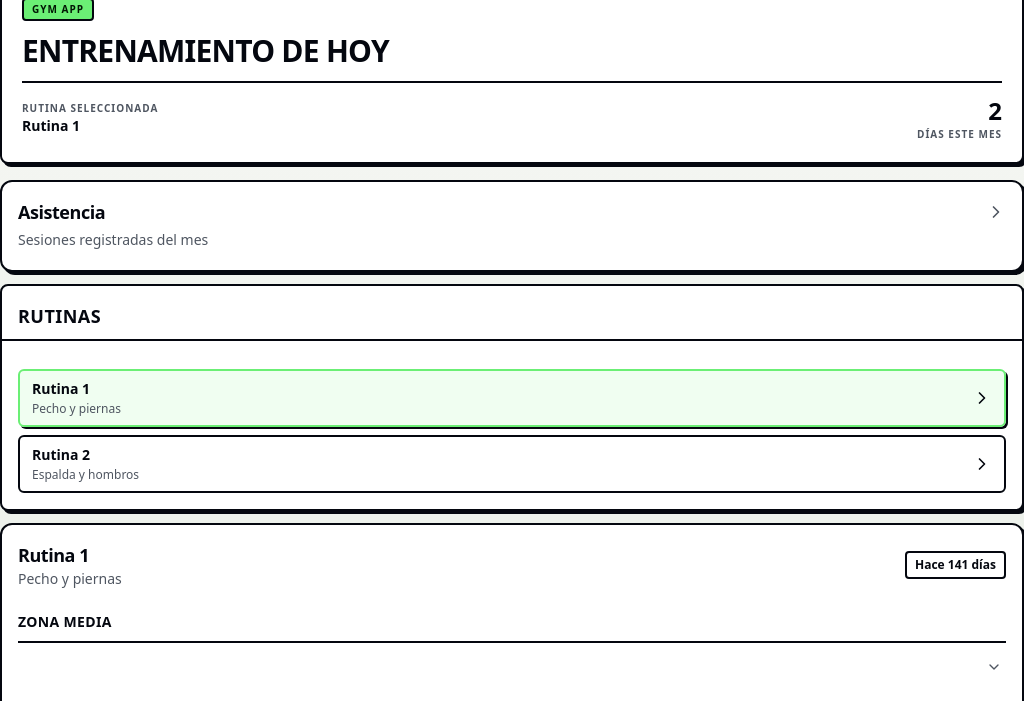
Test case: WorkoutApp › applies stopwatch time to seconds-based exercises
Click the button named "zona media": click(994, 667) [18,651,1006,683]
(page scrolled)
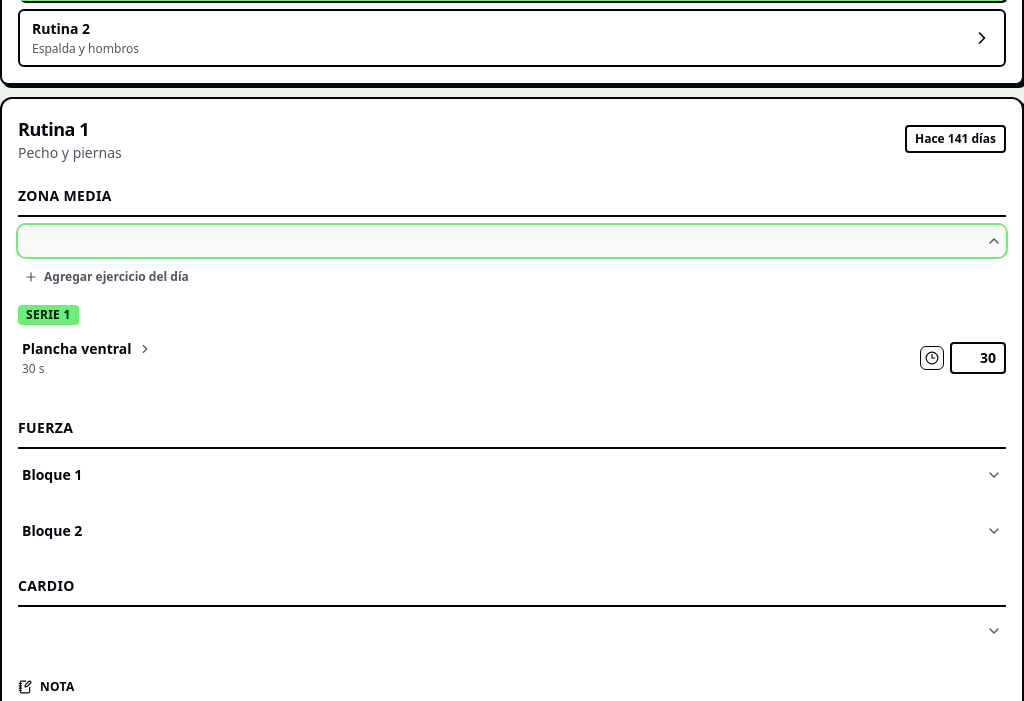
Click the button named "Usar cronómetro en Plancha ventral serie 1": click(932, 358) [920,346,944,370]
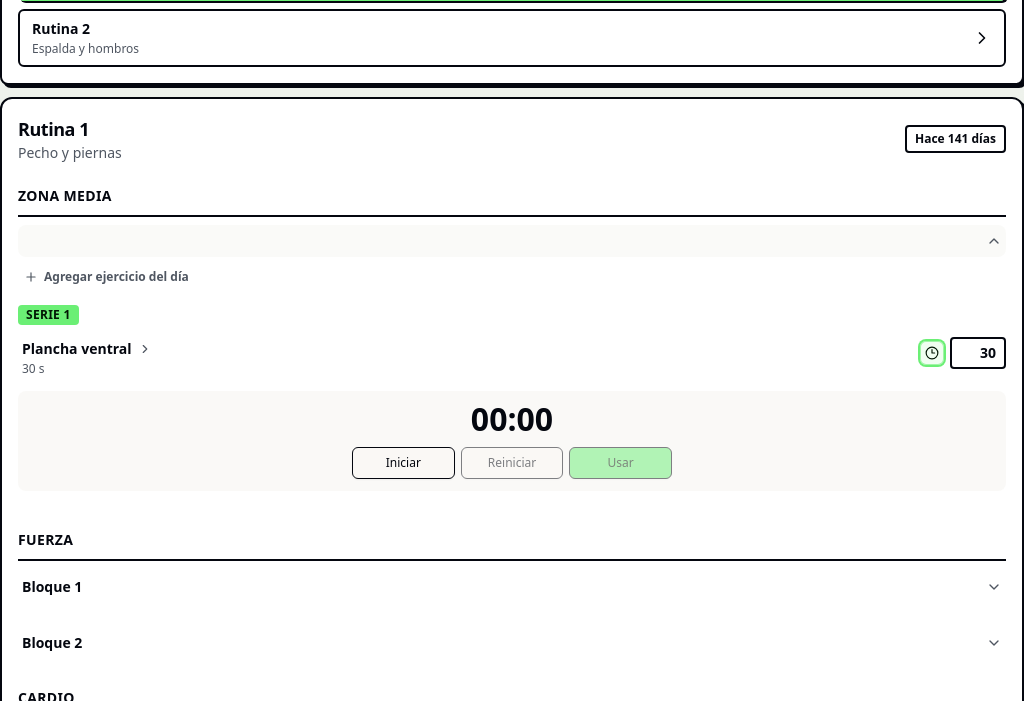
Click the button "Iniciar": click(403, 463) [352,447,455,479]
Wait 37000 ms
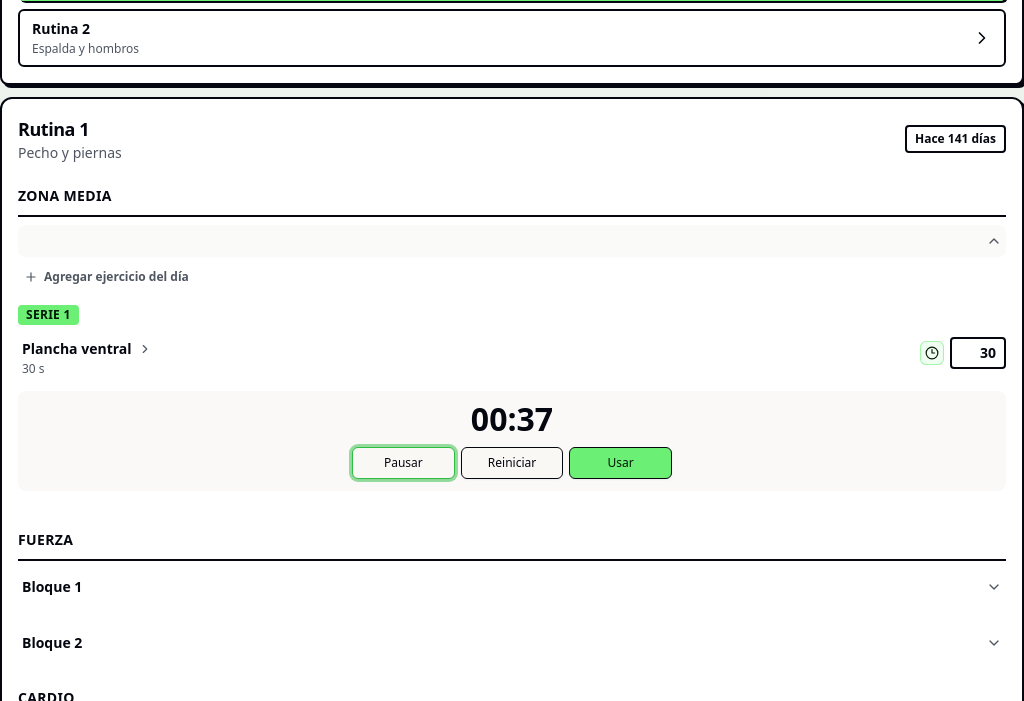
Expected: the text "00:37" is shown, [471,397,553,440]
Click the button "Usar": click(621, 463) [569,447,672,479]
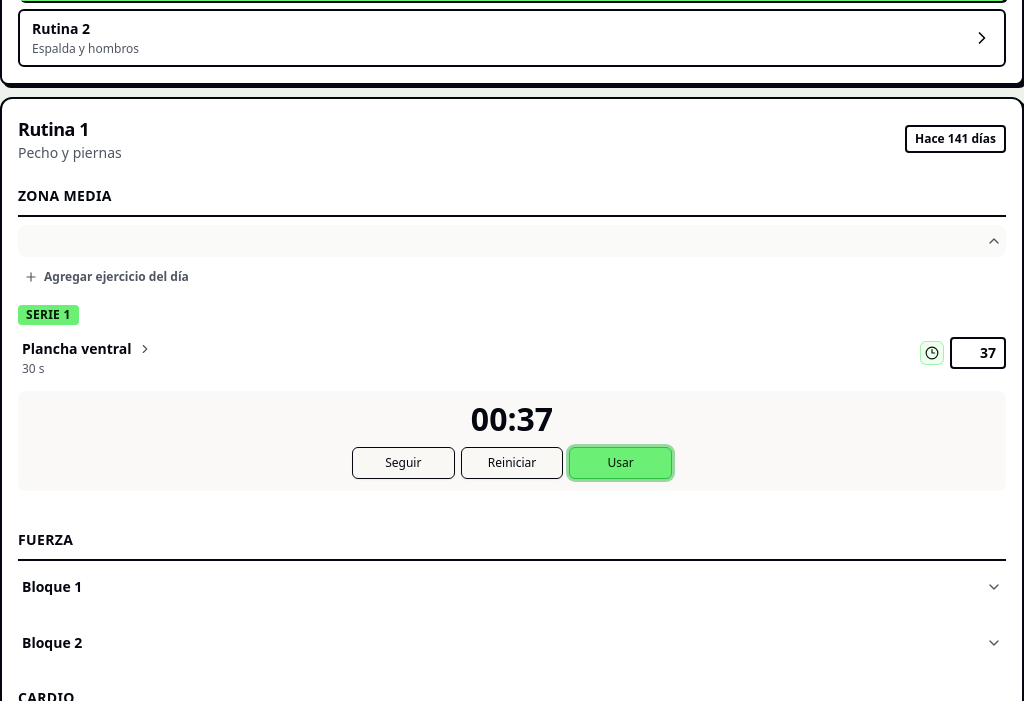
Expected: the field named "Plancha ventral serie 1" holds "37", [950,337,1006,369]
Expected: the button "Seguir" is shown, [352,447,455,479]
